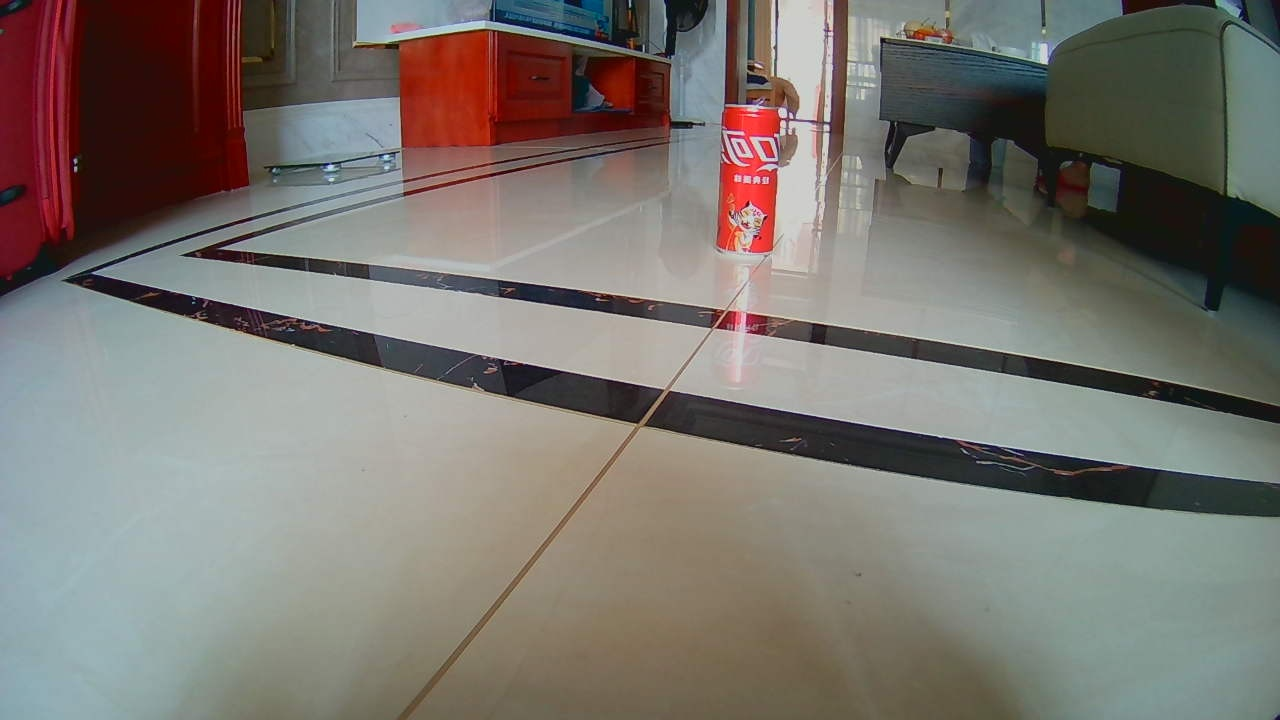cola: (718, 96, 780, 258)
